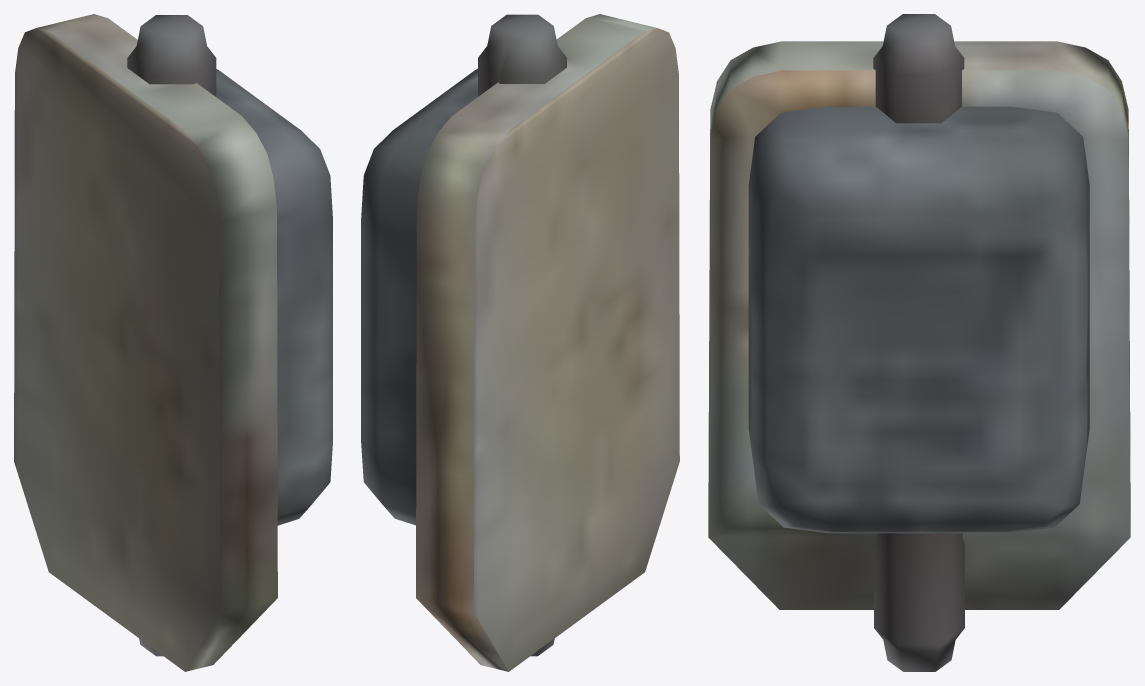
File: doormanipulator.glb
3 renders of one model, left to right at view 1: azimuth 30°, elevation 25°; view 2: azimuth 150°, elevation 25°; view 3: azimuth 270°, elevation 25°, orthographic. The views are drawn at different scales.
Parts seen in each view (by area): view 1: door_controller_box; view 2: door_controller_box; view 3: door_controller_box.
Boxes of the visible parts, left/top/right/bottom form: door_controller_box: left=14, top=14, right=332, bottom=671; door_controller_box: left=361, top=14, right=679, bottom=671; door_controller_box: left=708, top=14, right=1130, bottom=671.
Size of the model in its own units: 0.0714 by 0.2677 by 0.1614.
Materials: 1 (1 with a texture image).
